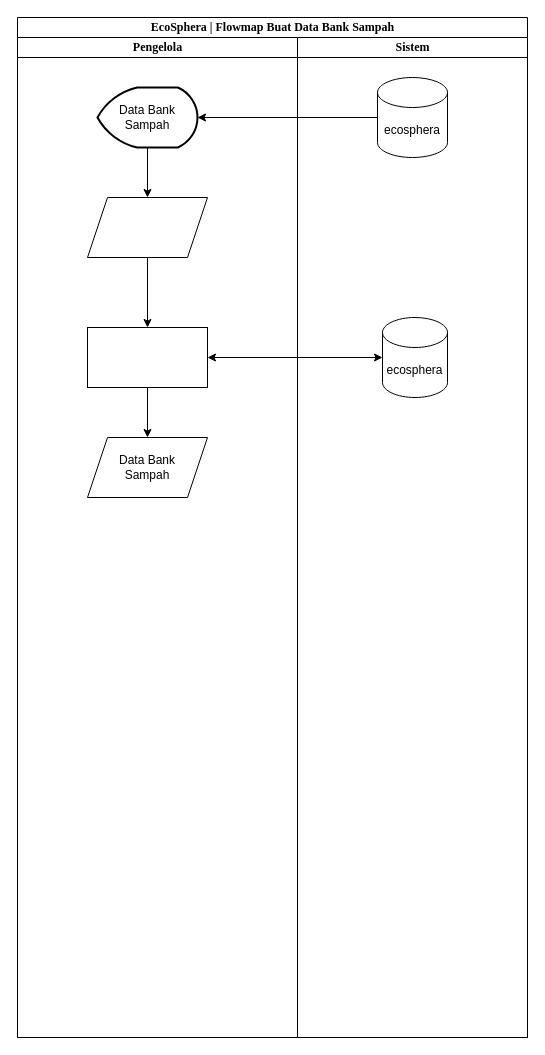
Image size: 545x1055. Some labels were removed from this diagram. The shapes that lost their labels are listed below. From the top down, each one's centre as x and y in pixels, then its label:
the point at 147,227: Delete Bank Sampah
the point at 147,357: Hapus data Bank Sampah
